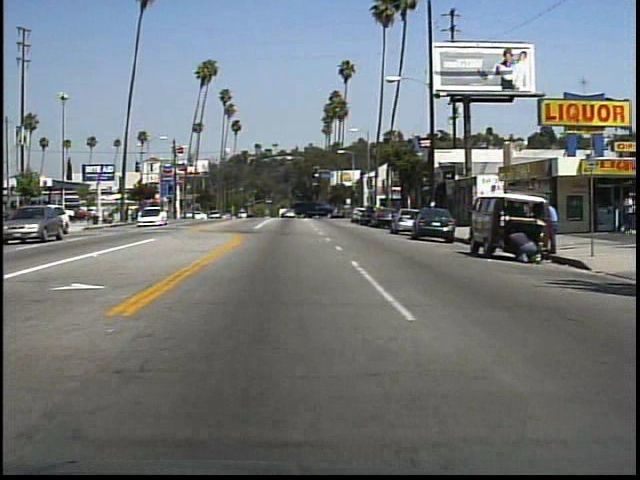person: (505, 226, 541, 267), (542, 200, 561, 255), (616, 186, 635, 238)
